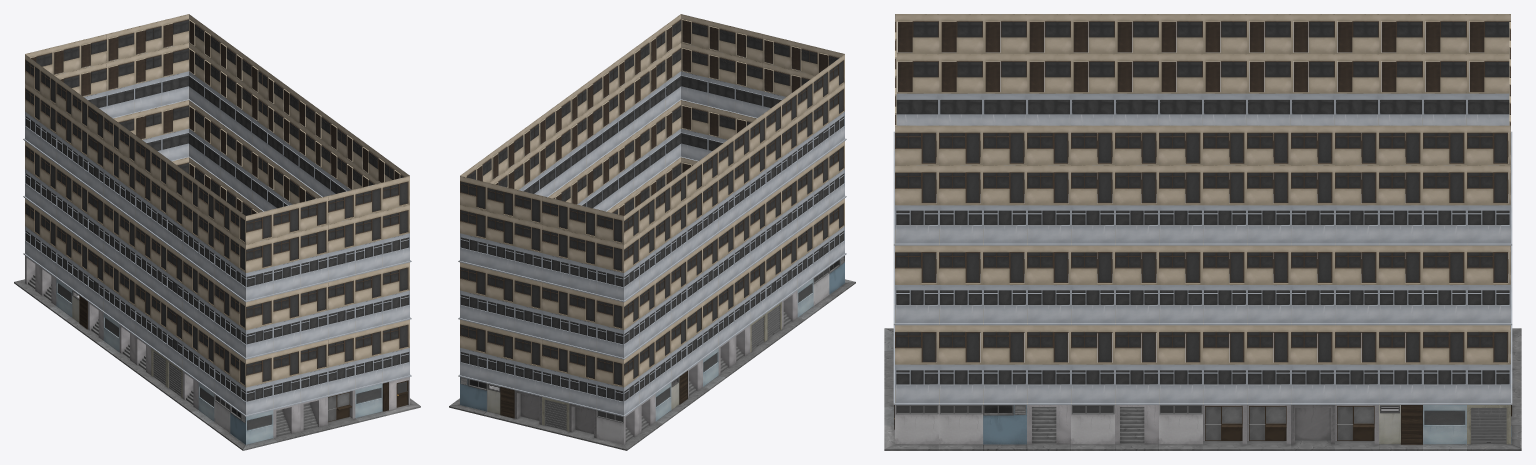
Rendered from Building Geo nodes2.fbx.
3 views of the same model, side by side, from view 1: azimuth 30°, elevation 25°; view 2: azimuth 150°, elevation 25°; view 3: azimuth 270°, elevation 25° (orthographic). The views are drawn at different scales.
Visible parts, largest first — view 1: Cube.002; view 2: Cube.002; view 3: Cube.002.
Part boxes in pixels (x1,y1,x2,y2): Cube.002: (14,14,420,450); Cube.002: (449,14,855,450); Cube.002: (884,14,1521,450).
Size of the model in its own units: 650 by 805 by 1450.
